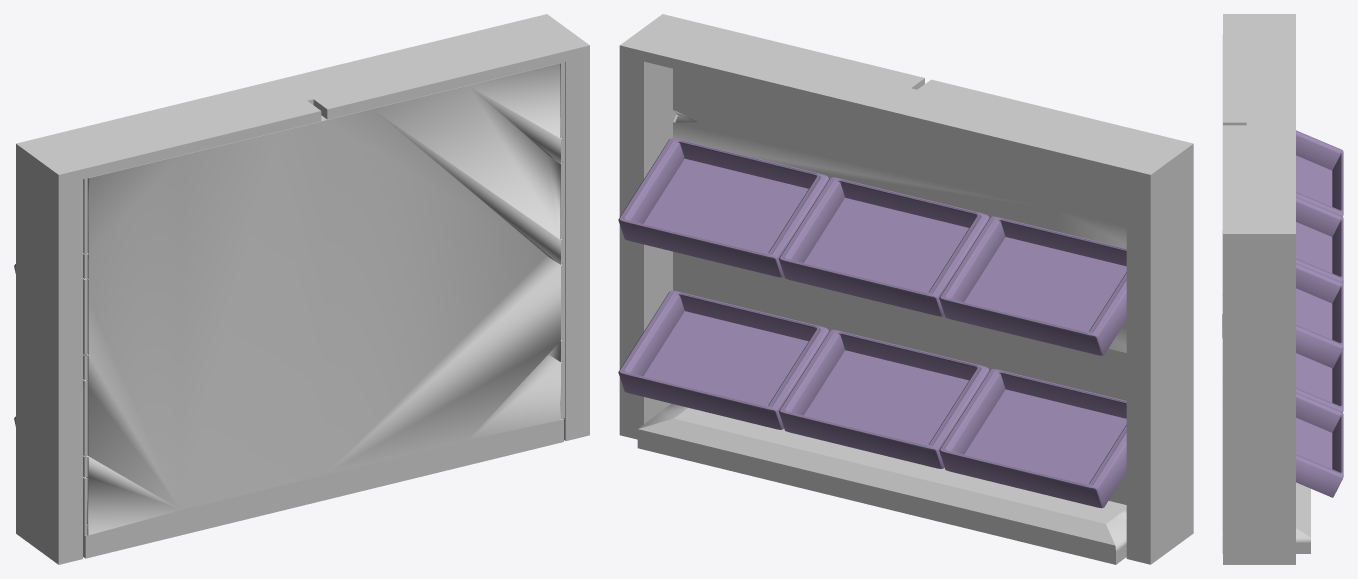
File: shelf-marker-4.glb
3 renders of one model, left to right at view 1: azimuth 30°, elevation 25°; view 2: azimuth 150°, elevation 25°; view 3: azimuth 270°, elevation 25°, orthographic. The views are drawn at different scales.
Visible parts, largest first — view 1: Box002; view 2: Box002, Object002; view 3: Box002, Object002.
Part boxes in pixels (x1,y1,x2,y2): Box002: (16, 14, 589, 564); Box002: (619, 14, 1193, 564); Object002: (618, 138, 1126, 508); Box002: (1222, 14, 1310, 564); Object002: (1296, 130, 1343, 497).
Size of the model in its own units: 0.5578 by 0.3913 by 0.1301.
